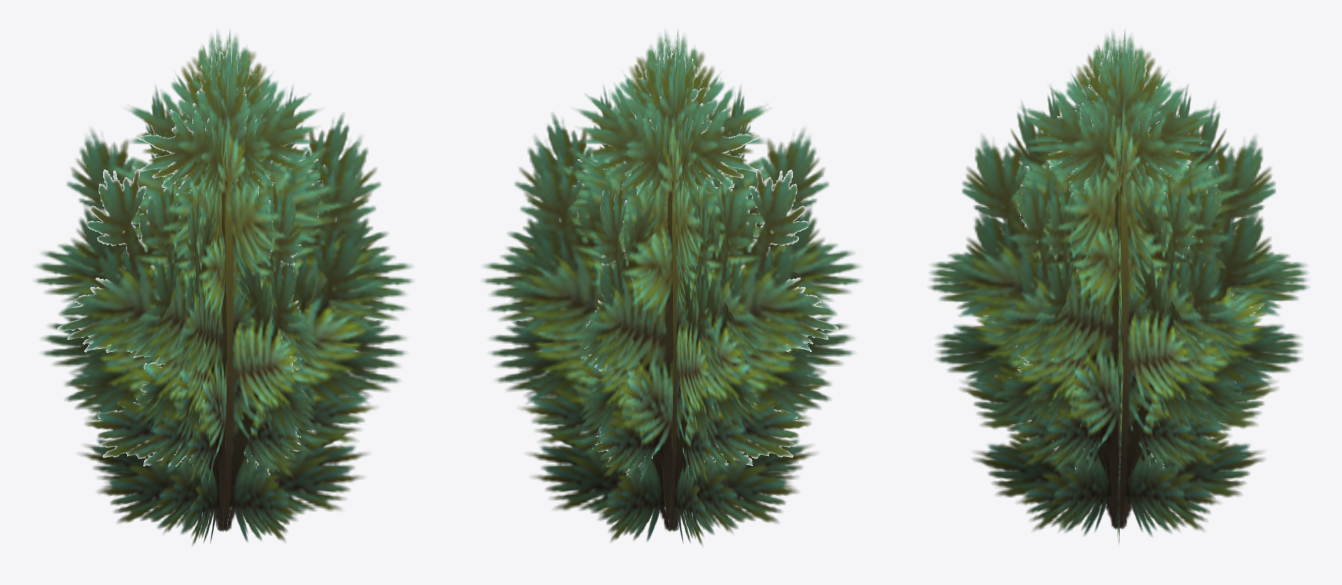
File: cali.glb
The picture shows the model from 3 angles, left to right: view 1: azimuth 30°, elevation 25°; view 2: azimuth 150°, elevation 25°; view 3: azimuth 270°, elevation 25°; orthographic projection.
Parts seen in each view (by area): view 1: HP3_pine4; view 2: HP3_pine4; view 3: HP3_pine4.
Part boxes in pixels (x1,y1,x2,y2): HP3_pine4: [35, 31, 412, 545]; HP3_pine4: [483, 31, 860, 545]; HP3_pine4: [929, 30, 1308, 542].
Bounding box in the file's own units: 0.2279 × 0.3139 × 0.2279.
Materials: 4 (4 with a texture image).
